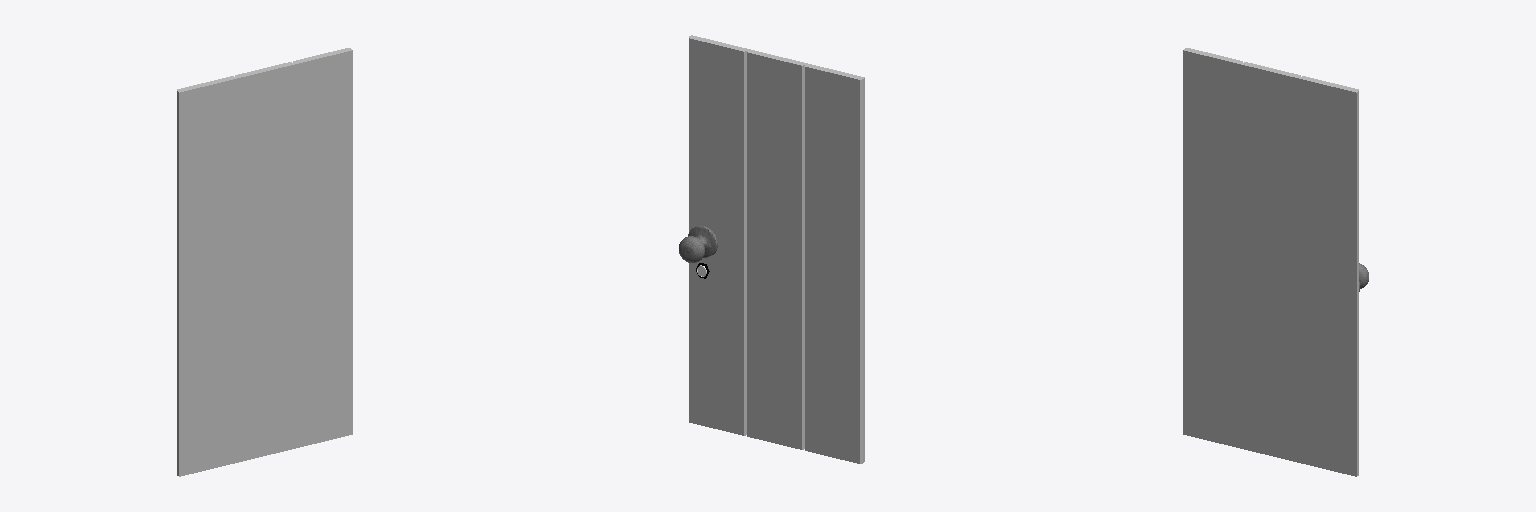
3 views of the same model, side by side, from view 1: azimuth 30°, elevation 25°; view 2: azimuth 150°, elevation 25°; view 3: azimuth 330°, elevation 25° (orthographic).
Parts seen in each view (by area): view 1: Entrance_door; view 2: Entrance_door; view 3: Entrance_door.
Part boxes in pixels (bbox=[...]): Entrance_door: bbox=[177, 48, 352, 476]; Entrance_door: bbox=[679, 35, 864, 463]; Entrance_door: bbox=[1183, 48, 1368, 476].
Size of the model in its own units: 1.2 by 2.53 by 0.2475.
Materials: 4 (1 with a texture image).